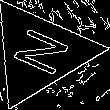N_SE: (5, 24, 74, 82)
